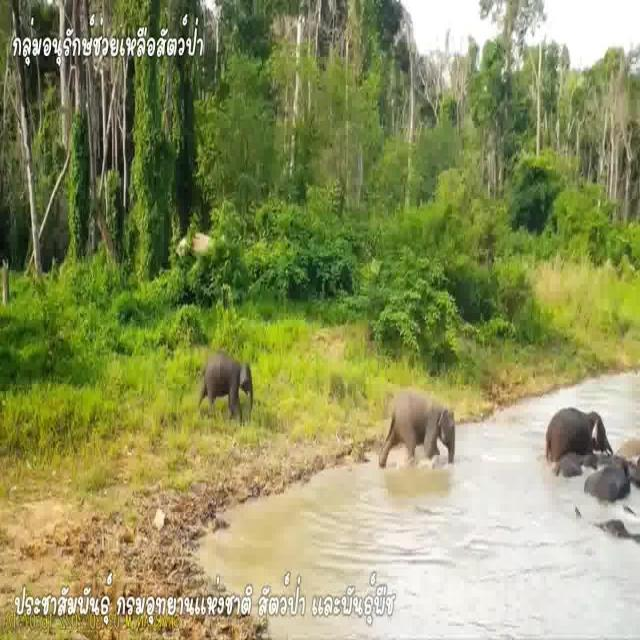Elephant: (385, 378, 456, 460), (545, 405, 614, 465), (202, 344, 255, 406)
